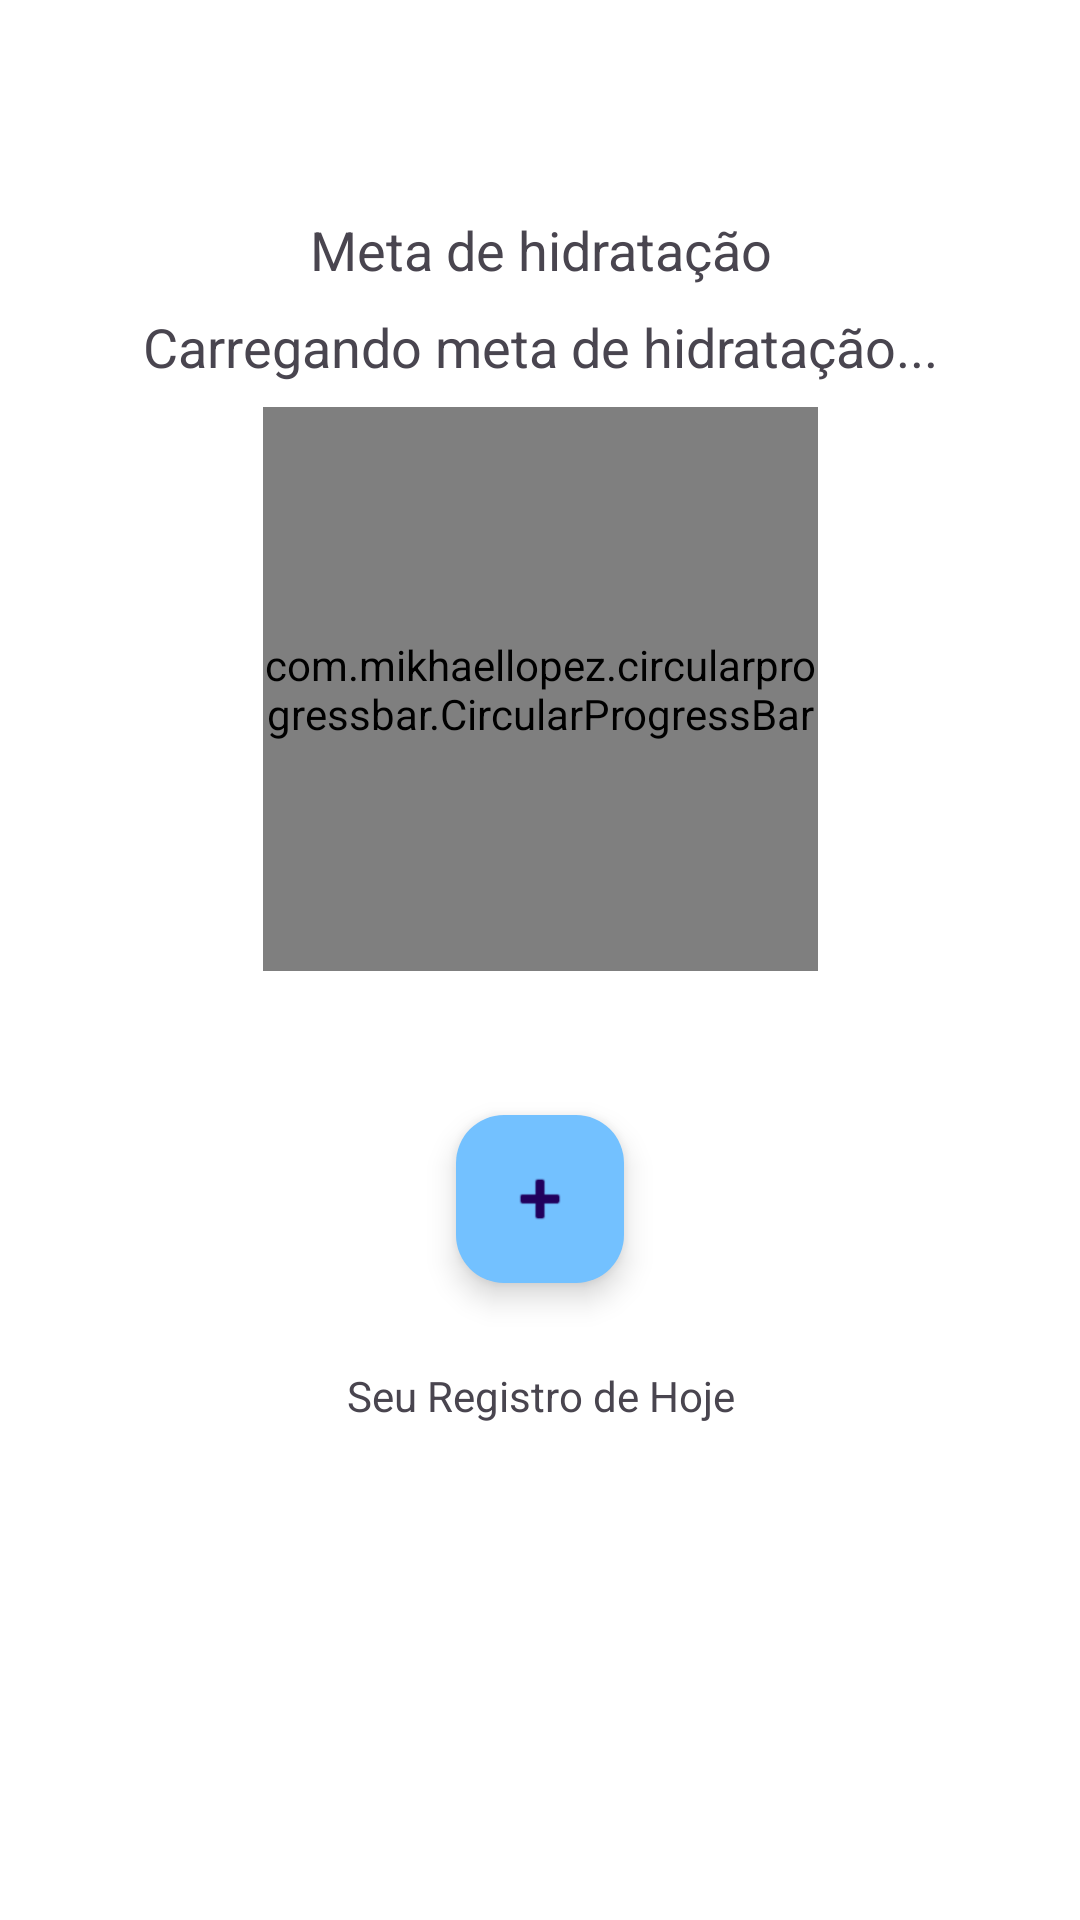

Named icons in this screenshot (1080*1920) and their centers, (x,y):
add: (540,1199)
